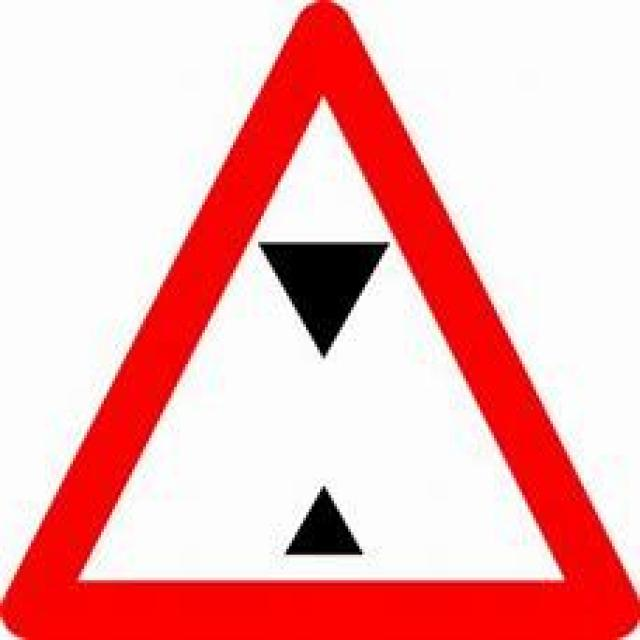height_limit: (3, 0, 637, 637)
